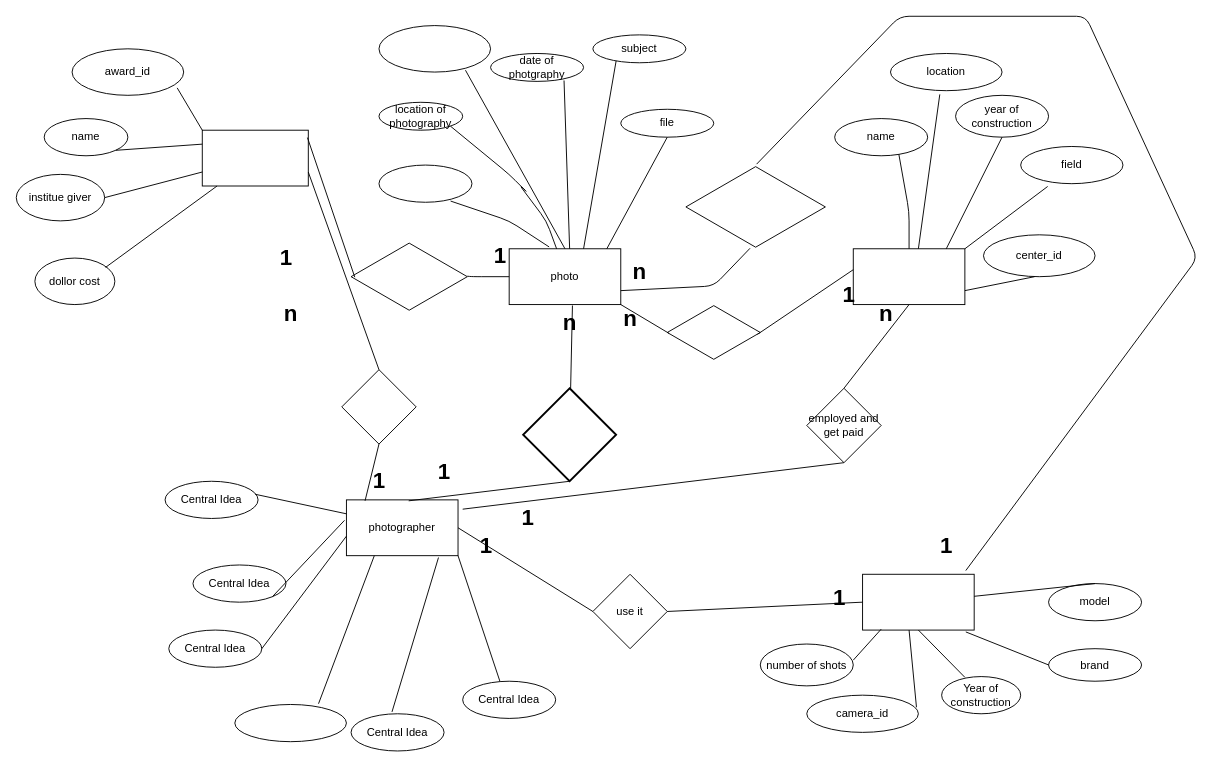
Some shapes in this 1215 by 767 pixel diagram are drawn without their labels. Here are the shapes that lost their labels. From the top down, the centre of each, then its label:
the point at 434,48: photo_id
the point at 254,157: award
the point at 425,183: title
the point at 755,206: use for taking photo
the point at 408,276: because of it
the point at 908,276: center
the point at 713,332: take for this company
the point at 378,406: get award
the point at 569,434: take a photo
the point at 918,601: camera
the point at 290,723: photographer_id
